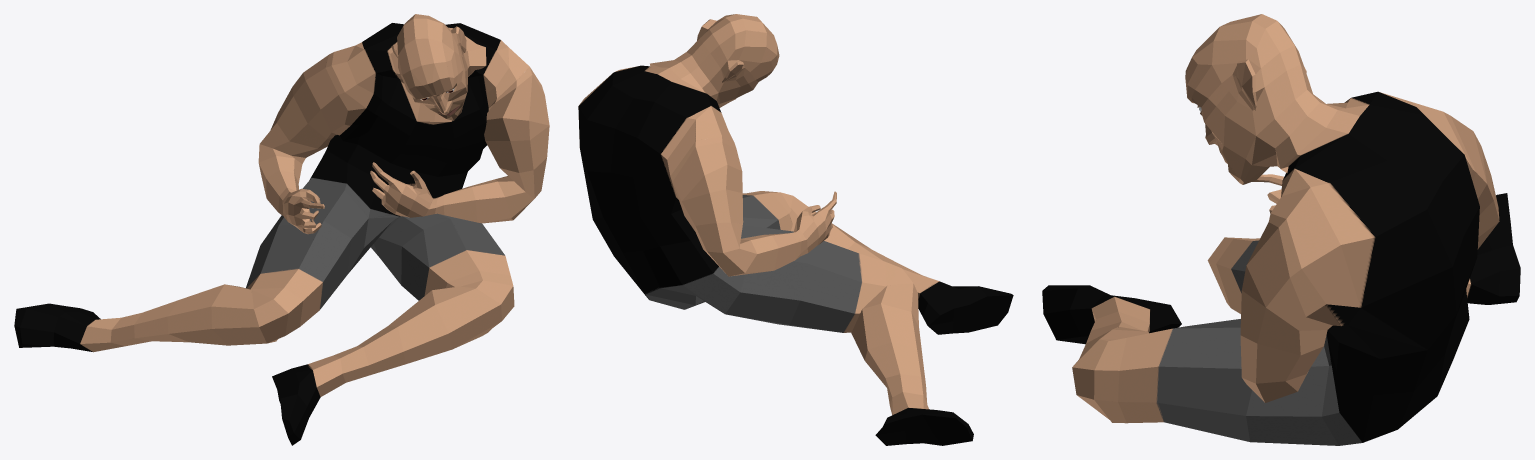
File: PlayerDead(40).obj
3 renders of one model, left to right at view 1: azimuth 30°, elevation 25°; view 2: azimuth 150°, elevation 25°; view 3: azimuth 270°, elevation 25°, orthographic. The views are drawn at different scales.
Parts seen in each view (by area): view 1: Plane002; view 2: Plane002; view 3: Plane002.
Boxes of the visible parts, x1,y1,x2,y2 form: Plane002: (14,14,549,445); Plane002: (578,14,1013,445); Plane002: (1042,14,1520,445).
Size of the model in its own units: 1267 by 861 by 812.
